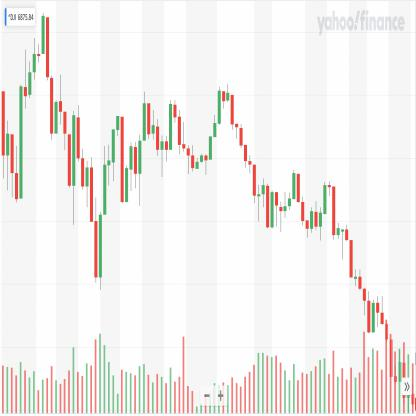Bearish: Evening Star Doji: (322, 178, 336, 244)
Bullish: 3 White Soldiers: (208, 83, 221, 163)
Bullish: Tweezer Bottom: (265, 182, 275, 232)
